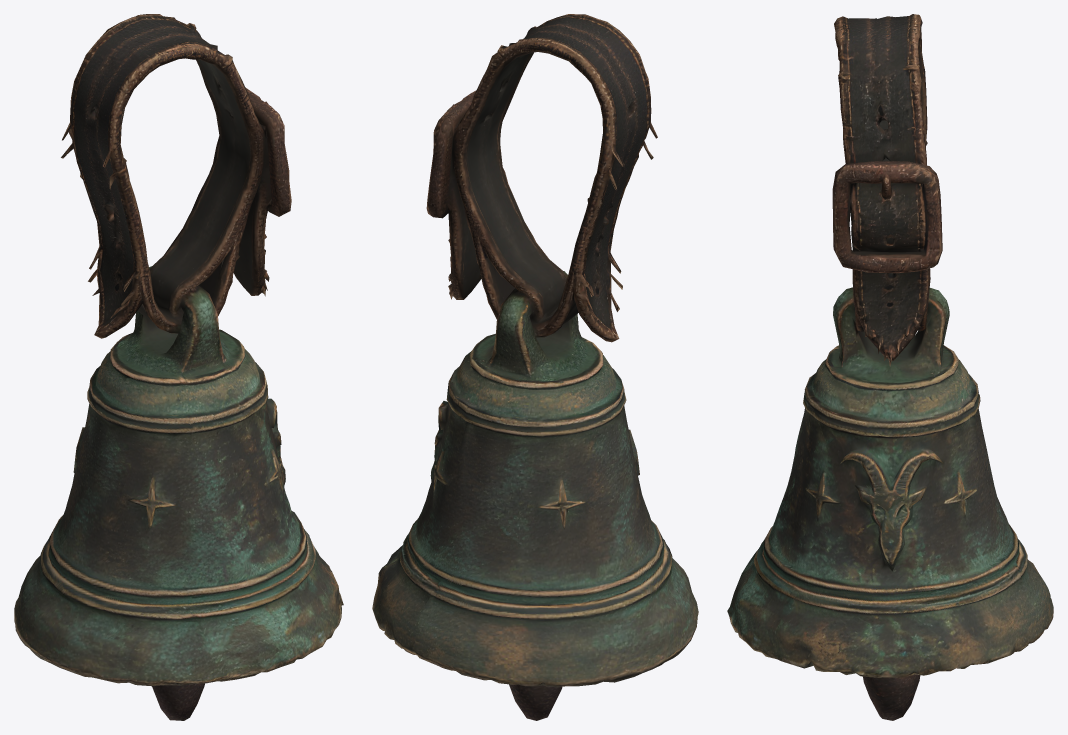
Rendered from neck_bell.glb.
The picture shows the model from 3 angles, left to right: view 1: azimuth 30°, elevation 25°; view 2: azimuth 150°, elevation 25°; view 3: azimuth 270°, elevation 25°; orthographic projection. The views are drawn at different scales.
Visible parts, largest first — view 1: tripo_node_703d82ae-b791-4699-959c-172d9feb20af; view 2: tripo_node_703d82ae-b791-4699-959c-172d9feb20af; view 3: tripo_node_703d82ae-b791-4699-959c-172d9feb20af.
Boxes of the visible parts, box(x1,y1,x2,y2) form: tripo_node_703d82ae-b791-4699-959c-172d9feb20af: box(14, 14, 343, 720); tripo_node_703d82ae-b791-4699-959c-172d9feb20af: box(372, 14, 698, 720); tripo_node_703d82ae-b791-4699-959c-172d9feb20af: box(727, 14, 1053, 720).
Bounding box in the file's own units: 0.4262 × 1 × 0.4333.
Materials: 1 (1 with a texture image).
